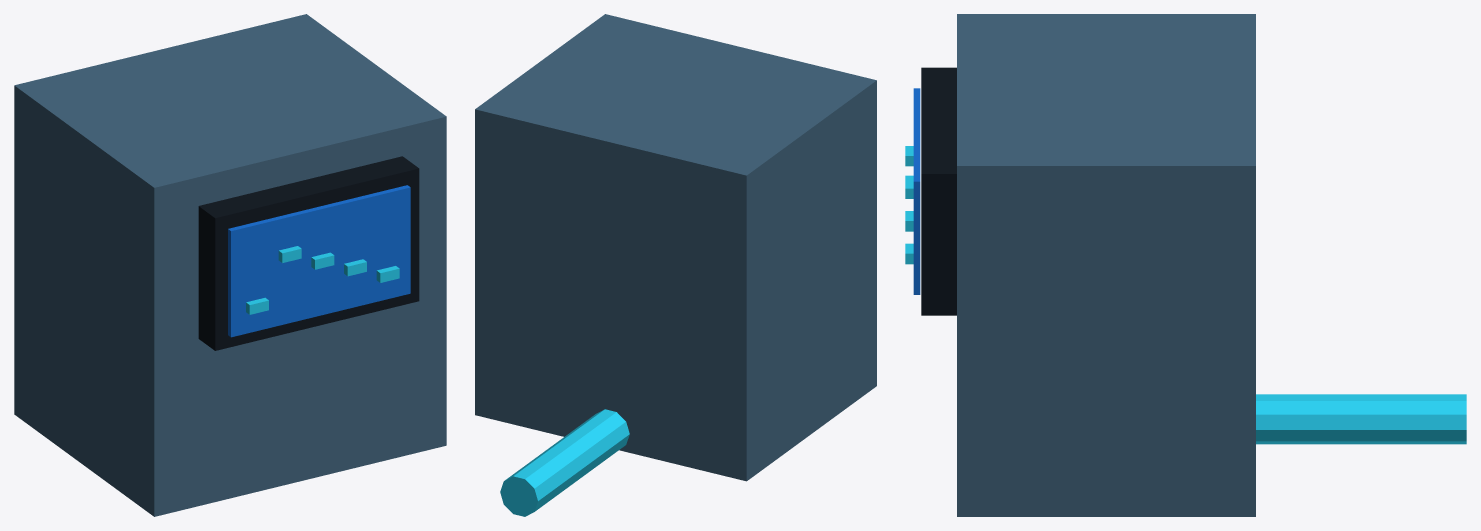
Rendered from 26_L69_EvaporatorOutletSensorA.fbx.
The picture shows the model from 3 angles, left to right: view 1: azimuth 30°, elevation 25°; view 2: azimuth 150°, elevation 25°; view 3: azimuth 270°, elevation 25°; orthographic projection. The views are drawn at different scales.
Visible parts, largest first — view 1: EvaporatorOutletSensorA; view 2: EvaporatorOutletSensorA; view 3: EvaporatorOutletSensorA.
Part boxes in pixels (bbox=[...]): EvaporatorOutletSensorA: bbox=[14, 14, 446, 516]; EvaporatorOutletSensorA: bbox=[475, 14, 876, 516]; EvaporatorOutletSensorA: bbox=[905, 14, 1466, 516].
Bounding box in the file's own units: 53 × 57.02 × 82.6.
